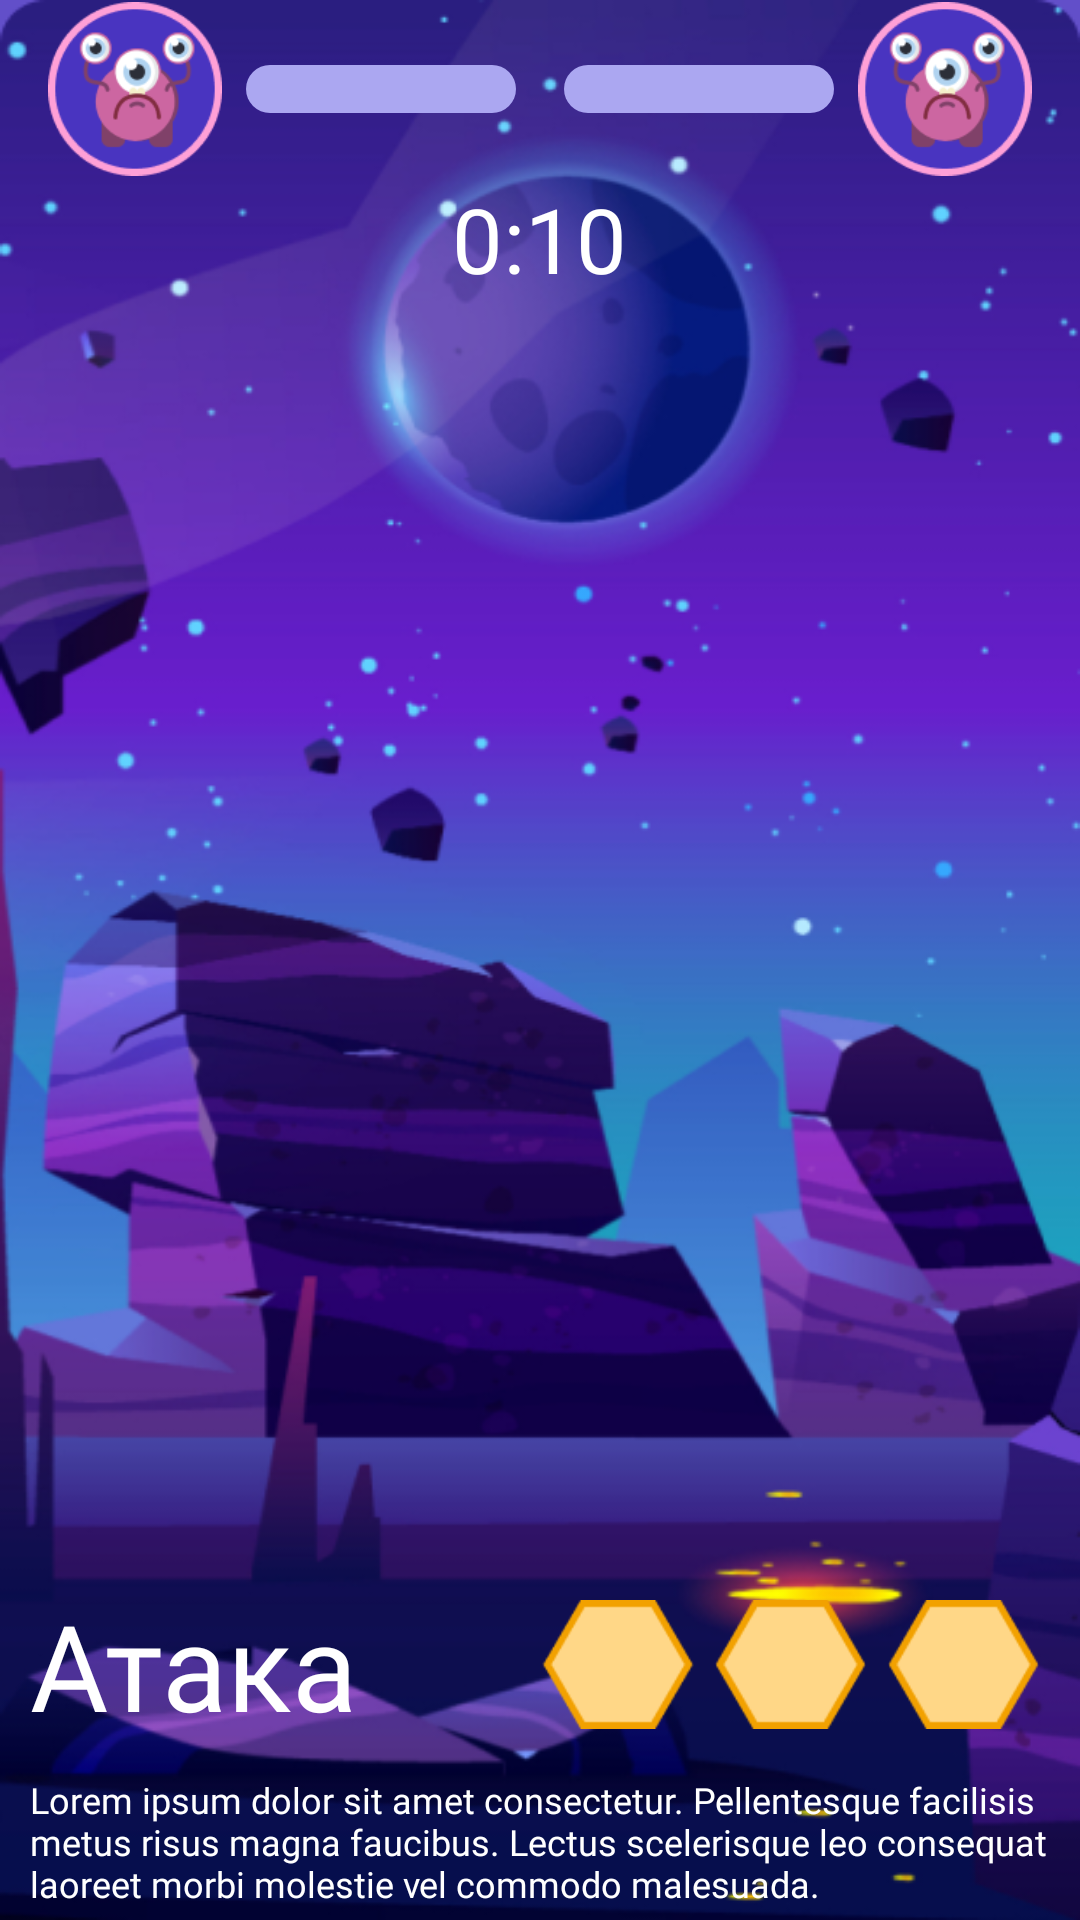

Screen size 1080x1920. Icon name, then its box in pixels as (x1, y1, x2, y2):
pic enemy: (48, 2, 222, 176), (858, 2, 1032, 176)
